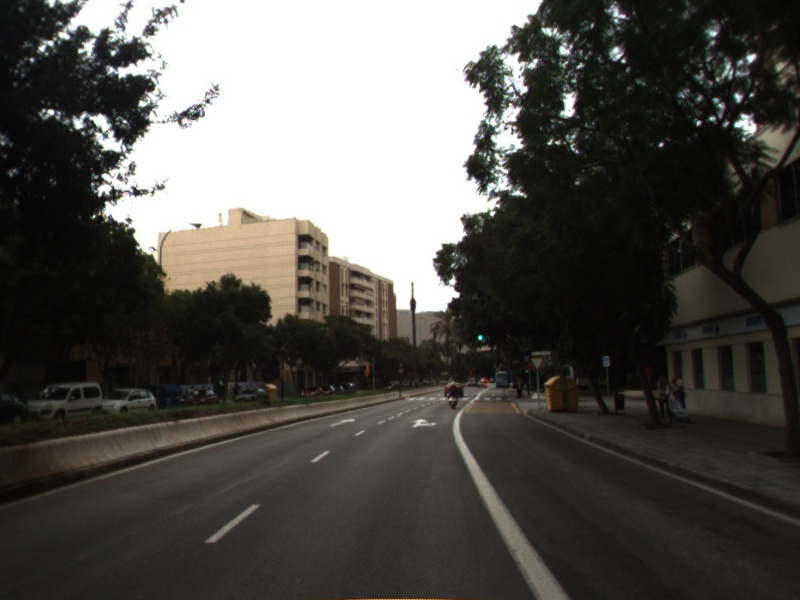STRAIGHT: (327, 416, 357, 429)
STRAIGHT_RIGHT: (408, 416, 439, 430)
